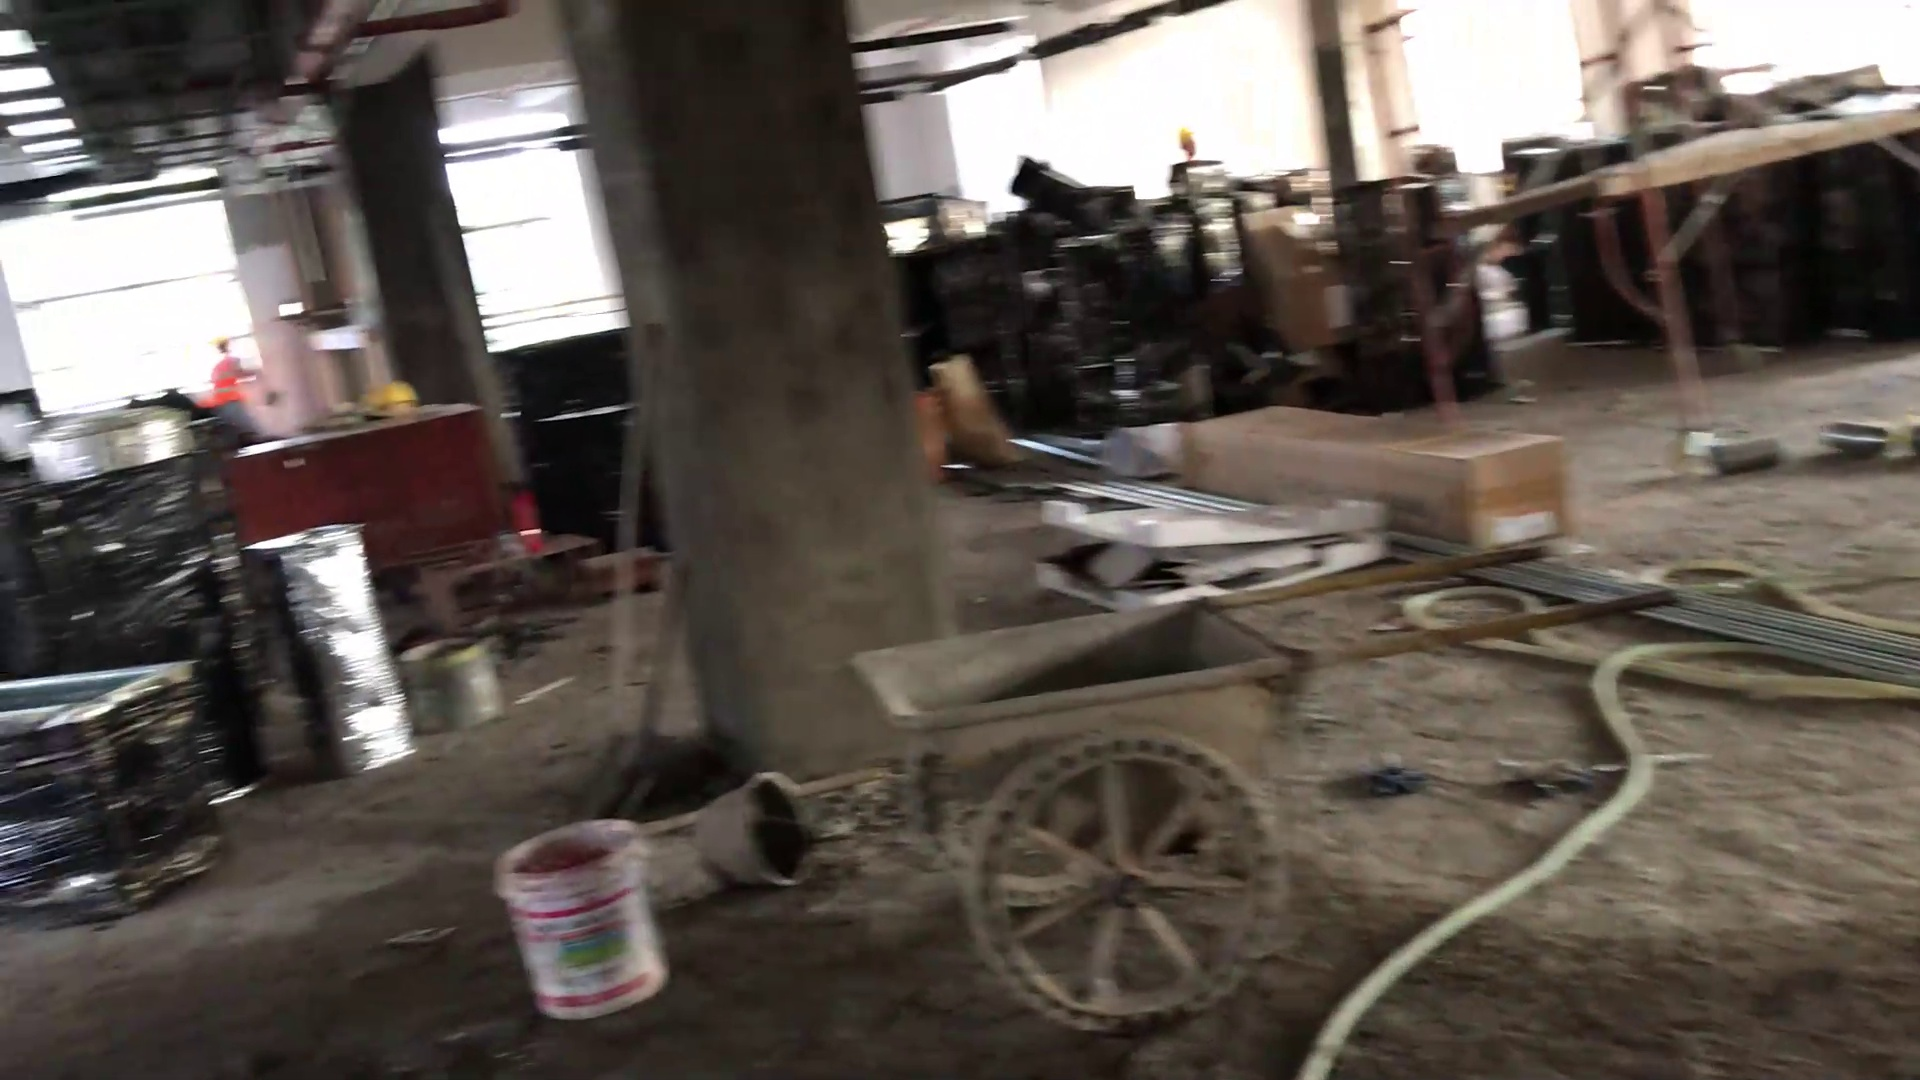helmet: (355, 375, 428, 417), (1179, 126, 1202, 144), (216, 337, 230, 346)
person: (204, 332, 272, 425), (1160, 117, 1217, 201)
vest: (209, 357, 249, 404)
